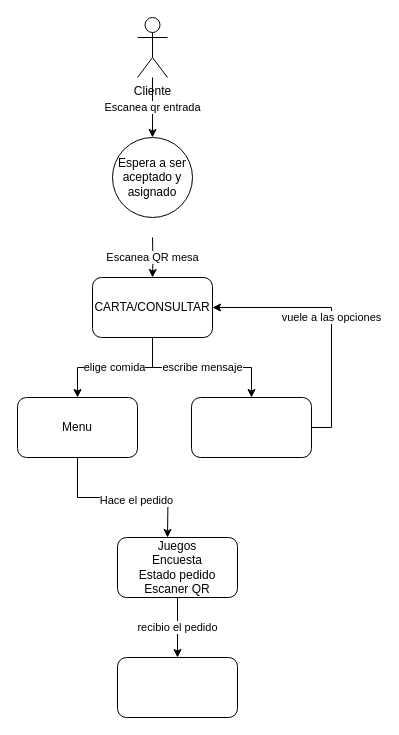
Some shapes in this 399 by 735 pixel diagram are drawn without their labels. The shapes that lost their labels are listed below. From the top down, each one's box as (x1, y1, x2, y2) in pixels, then its label:
(190, 396, 312, 458): Escribe a los mozos
(116, 656, 238, 718): Juegos Encuesta Pedir cuenta Escaner QR
